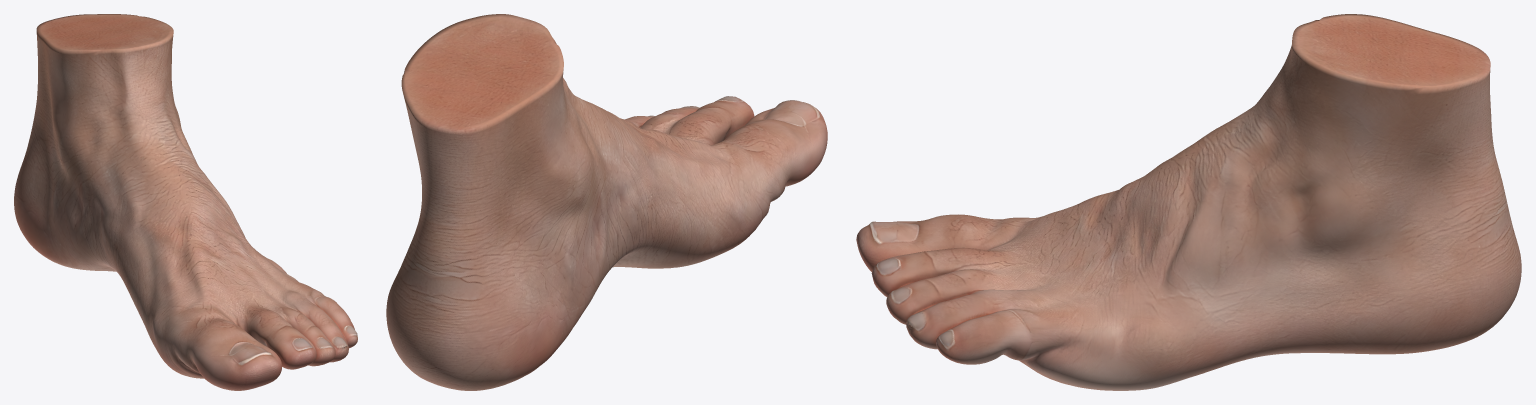
Rendered from 3c_foot.glb.
3 views of the same model, side by side, from view 1: azimuth 30°, elevation 25°; view 2: azimuth 150°, elevation 25°; view 3: azimuth 270°, elevation 25° (orthographic). The views are drawn at different scales.
Visible parts, largest first — view 1: model; view 2: model; view 3: model.
Boxes of the visible parts, left/top/right/bottom form: model: left=14, top=14, right=357, bottom=390; model: left=386, top=14, right=827, bottom=390; model: left=856, top=14, right=1521, bottom=390.
Bounding box in the file's own units: 0.7035 × 0.9977 × 1.9.
1 material, 1 textured.
